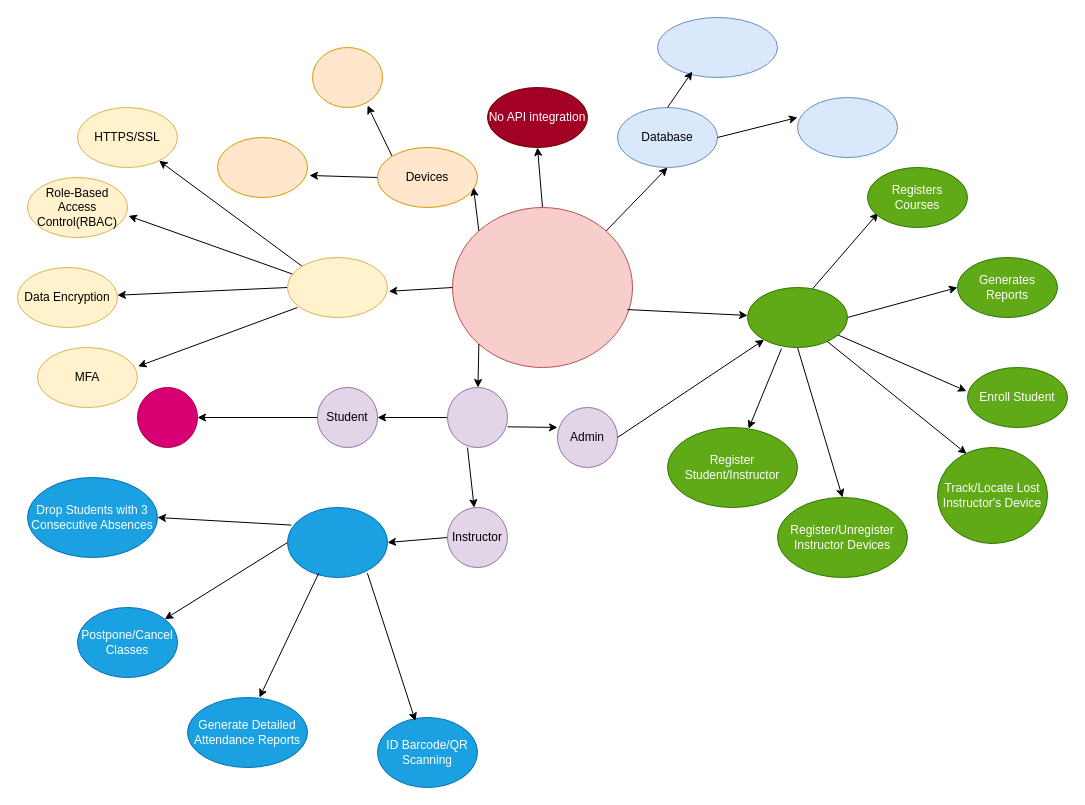
This 1085x805 diagram has some shape labels left out. Here are the shapes that lost their labels. From the top down, the centre of each, then its label:
At (x=717, y=47): "MySQL/MongoDB Atlas".
At (x=347, y=77): "Laptops".
At (x=847, y=127): "Cloud-Based Server".
At (x=262, y=167): "Mobile Phones".
At (x=337, y=287): "Security".
At (x=542, y=287): "Project X - Automated Attendance Tracking System".
At (x=797, y=317): "User Management".
At (x=167, y=417): "Access Student Portal".
At (x=477, y=417): "User".
At (x=337, y=542): "Attendance Tracking".
